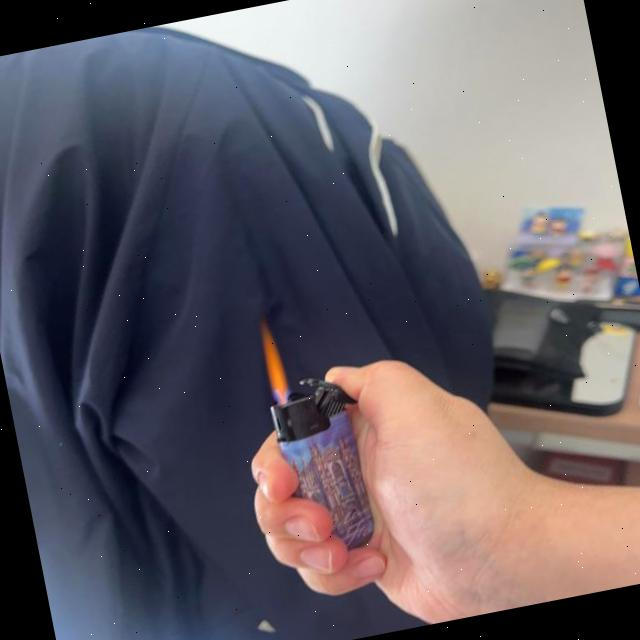fire: (255, 322, 293, 402)
